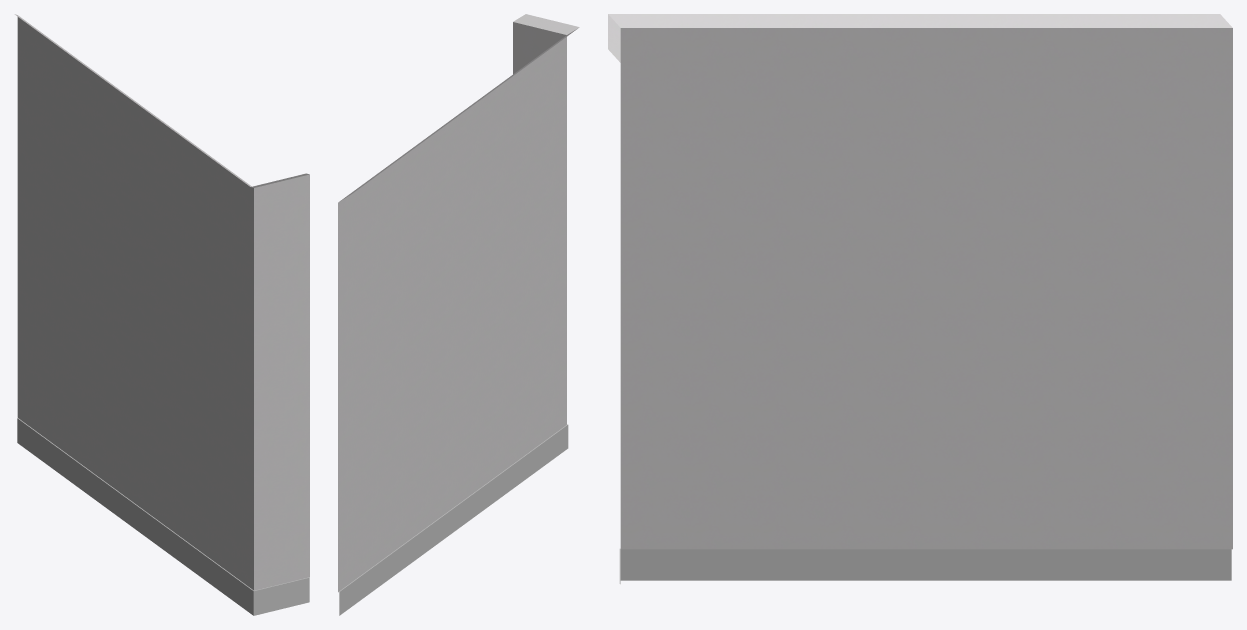
File: SM_Wall_White_29.fbx
3 renders of one model, left to right at view 1: azimuth 30°, elevation 25°; view 2: azimuth 150°, elevation 25°; view 3: azimuth 270°, elevation 25°, orthographic. The views are drawn at different scales.
Visible parts, largest first — view 1: SM_Wall_White_29; view 2: SM_Wall_White_29; view 3: SM_Wall_White_29.
Boxes of the visible parts, <box> form: SM_Wall_White_29: <box>14,14,309,615</box>; SM_Wall_White_29: <box>338,14,579,615</box>; SM_Wall_White_29: <box>608,14,1232,584</box>.
Bounding box in the file's own units: 75.35 × 489 × 485.
